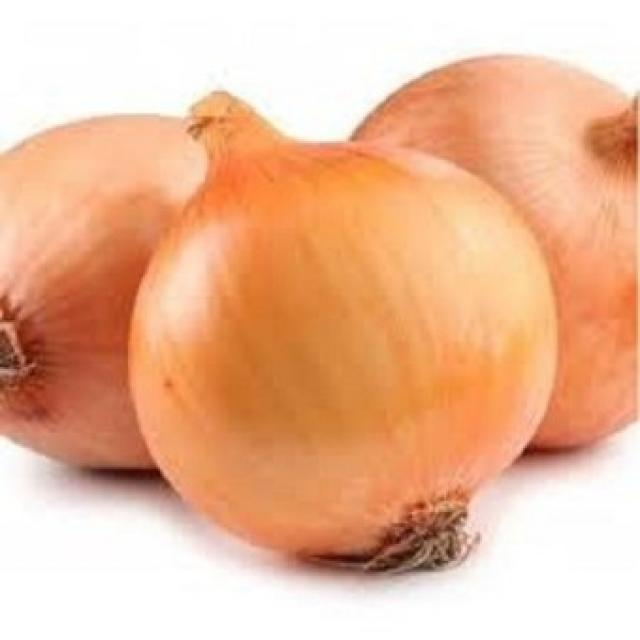onion: (137, 99, 546, 572), (416, 36, 640, 457), (26, 90, 247, 502)
